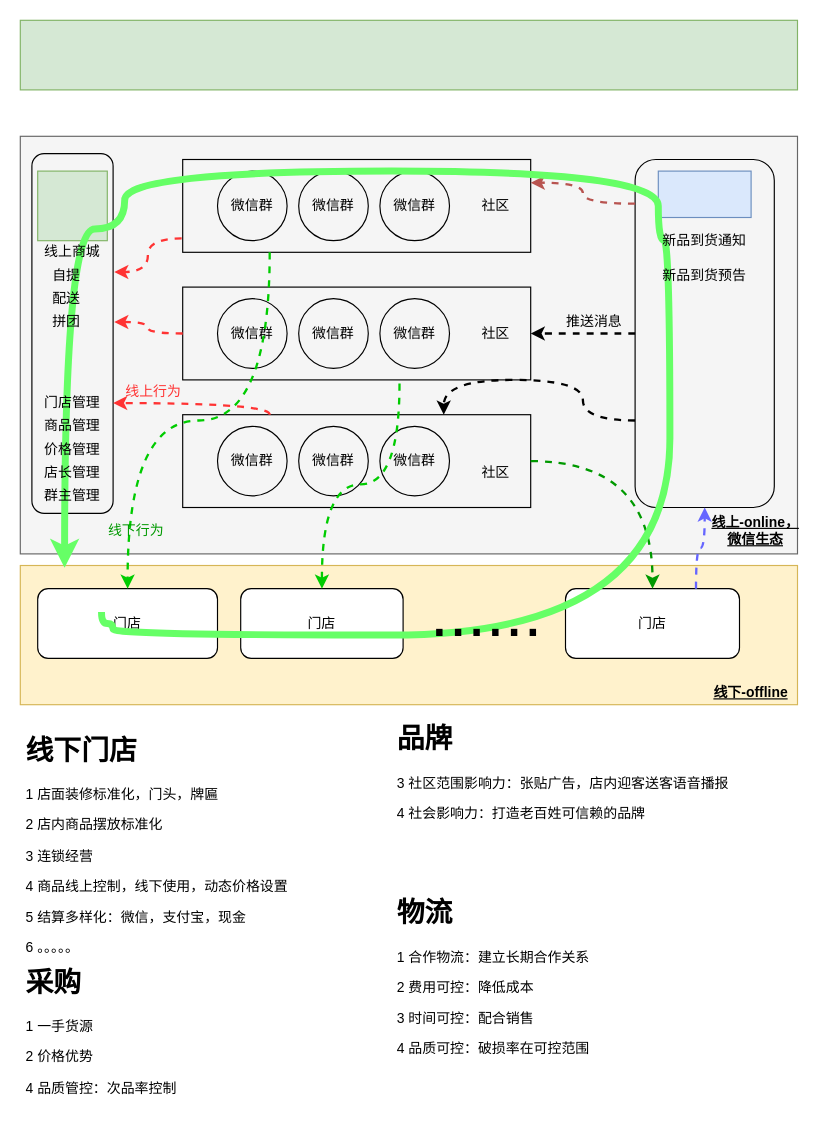
This 822x1143 diagram has some shape labels left out. The shapes that lost their labels are listed below. From the top down, each one's box as (x1, y1, x2, y2) in pixels, then its label:
(19, 19, 798, 90): 好食天天大型社区连锁超市品牌战略规划
(37, 170, 107, 241): 好食天天 社区超市
(657, 170, 751, 217): 好食 微信公众号
